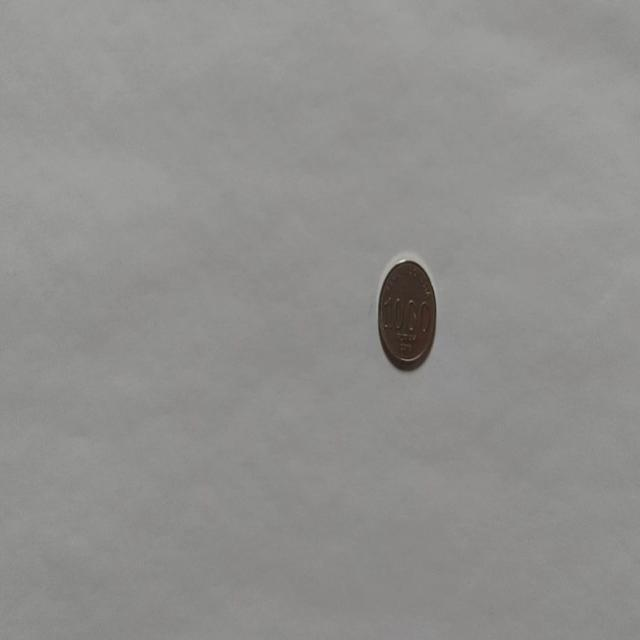seribu rupiah koin: (376, 252, 437, 371)
